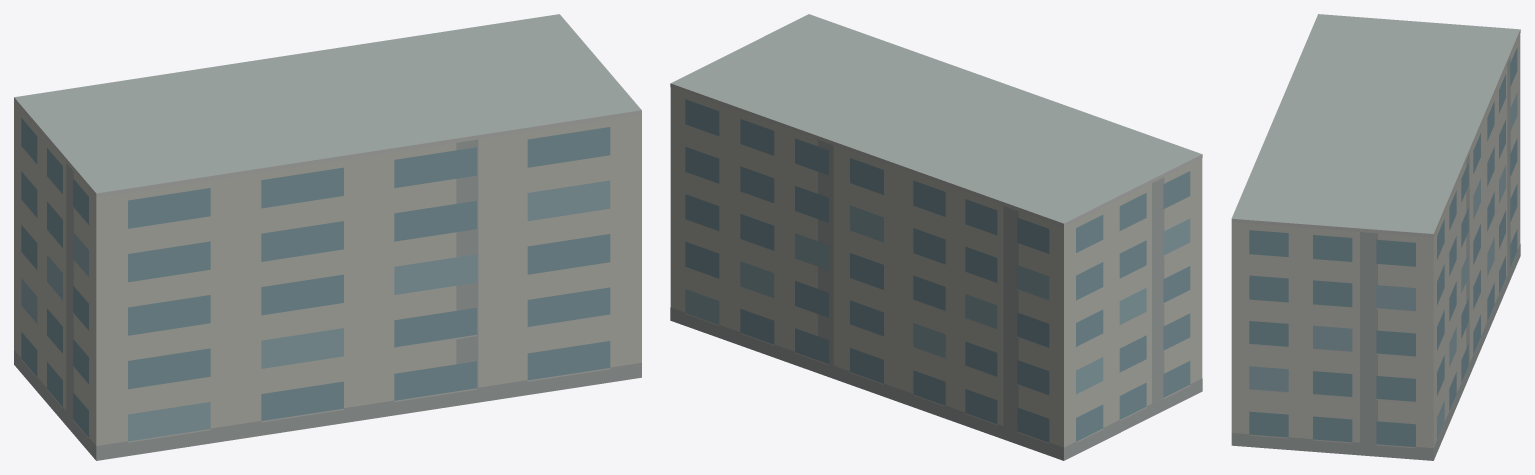
File: residential-a9f4ef8a-426f-45bb-9132-d8494a2d75eb.glb
3 renders of one model, left to right at view 1: azimuth 30°, elevation 25°; view 2: azimuth 150°, elevation 25°; view 3: azimuth 270°, elevation 25°, orthographic. The views are drawn at different scales.
Visible parts, largest first — view 1: residential-a9f4ef8a-426f-45bb-9132-d8494a2d75eb.tmp; view 2: residential-a9f4ef8a-426f-45bb-9132-d8494a2d75eb.tmp; view 3: residential-a9f4ef8a-426f-45bb-9132-d8494a2d75eb.tmp.
Part boxes in pixels (<box>): residential-a9f4ef8a-426f-45bb-9132-d8494a2d75eb.tmp: <box>14,14,641,460</box>; residential-a9f4ef8a-426f-45bb-9132-d8494a2d75eb.tmp: <box>670,14,1202,460</box>; residential-a9f4ef8a-426f-45bb-9132-d8494a2d75eb.tmp: <box>1231,14,1520,460</box>.
Bounding box in the file's own units: 31.73 × 15.25 × 17.61.
